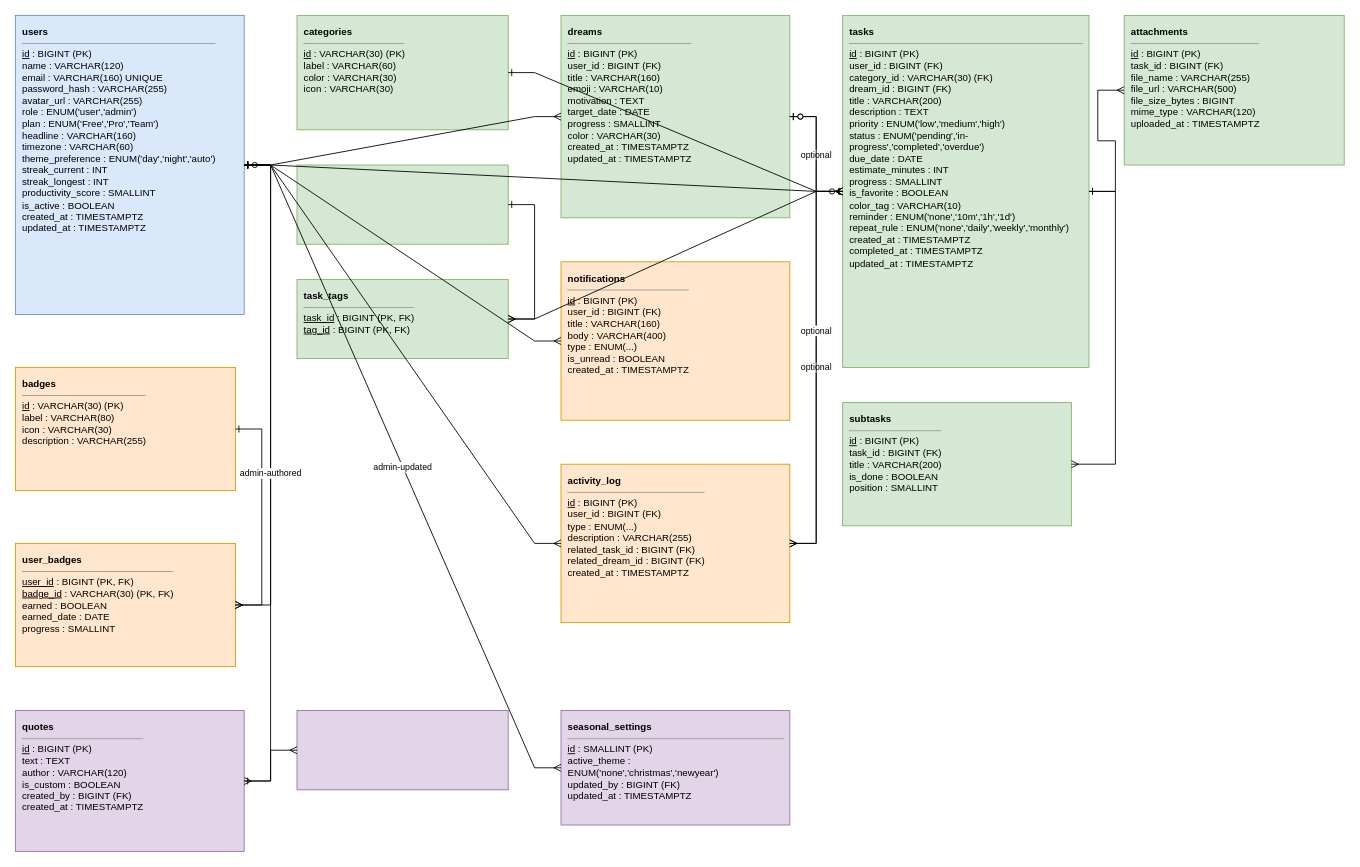
Some shapes in this 1360 by 867 pixel diagram are drawn without their labels. Here are the shapes that lost their labels. From the top down, the box of each, then its label:
(296, 164, 508, 244): tags id : BIGINT (PK) label : VARCHAR(60) UNIQUE
(296, 710, 508, 790): quote_moods quote_id : BIGINT (PK, FK) mood : ENUM(...) (PK)
